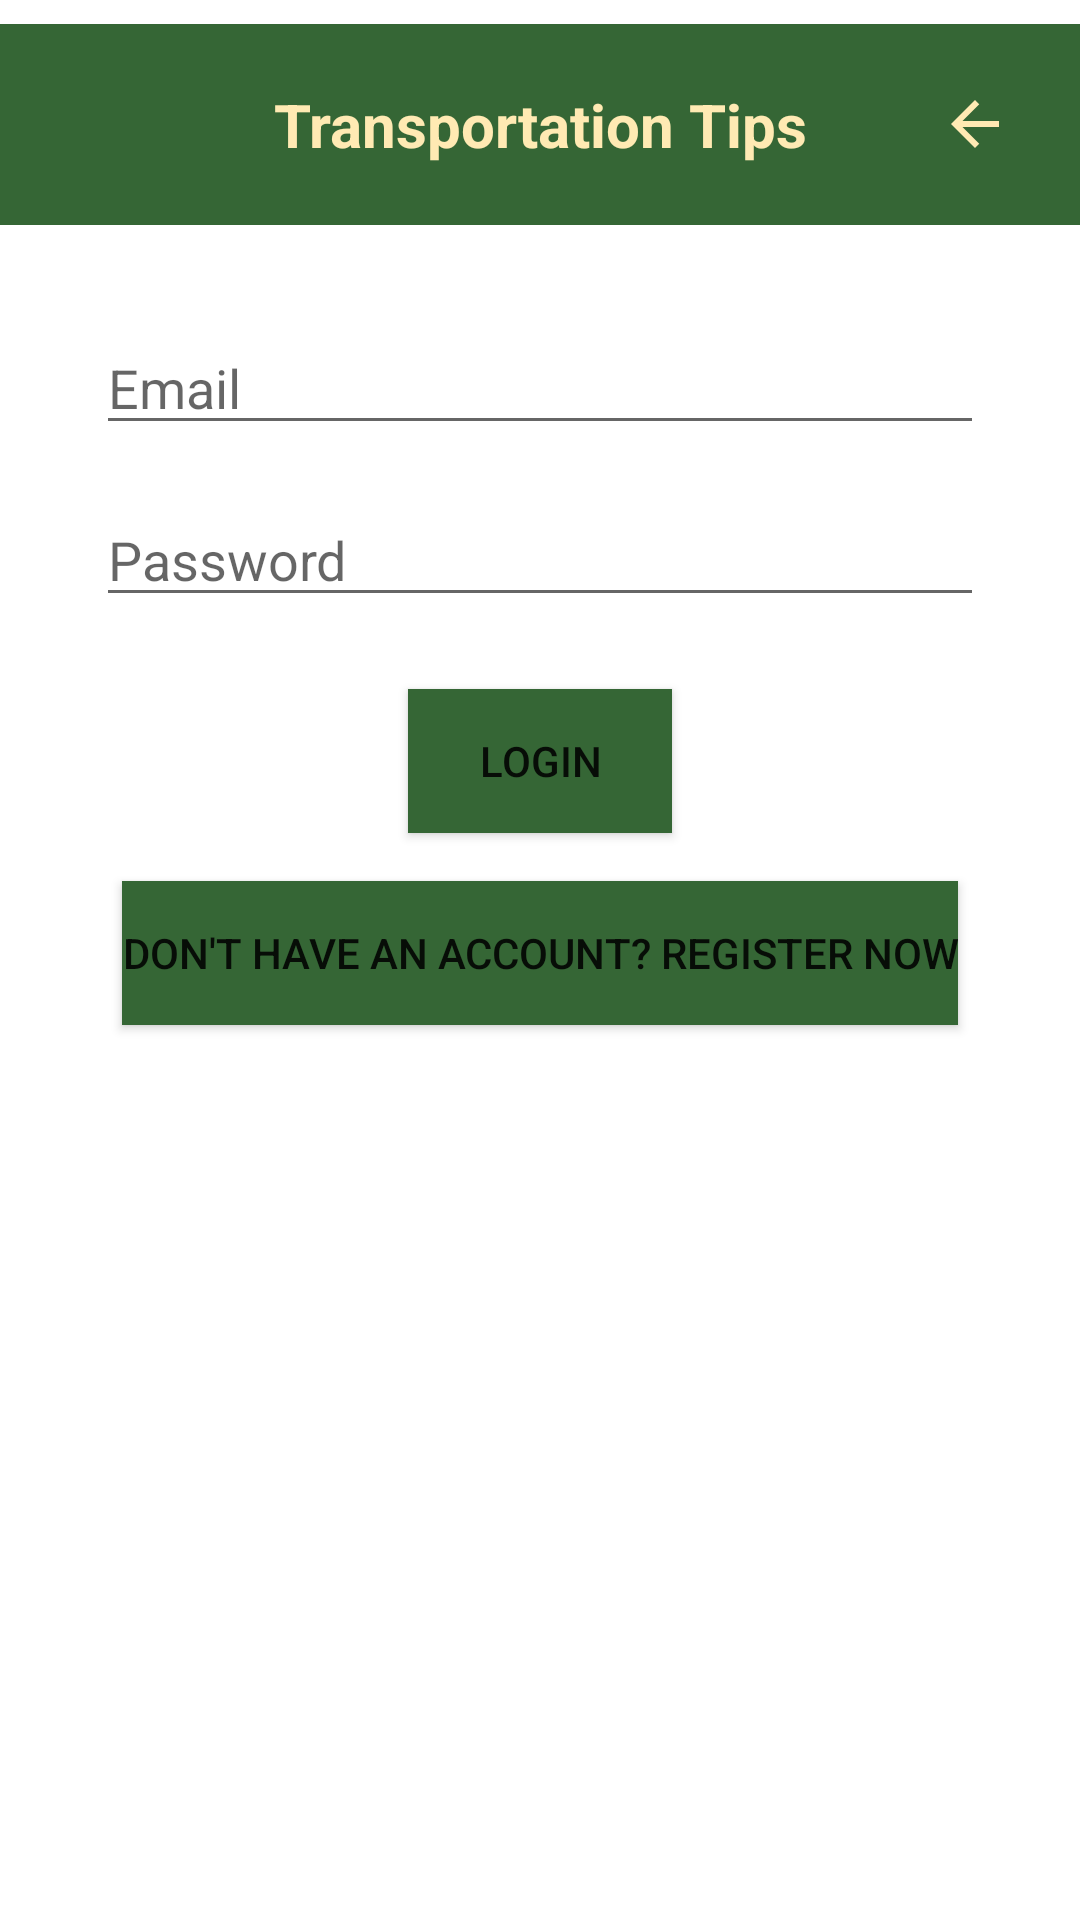

Icons on this 1080px×1920px Android screen, each with its box as bbox=(x1, y1, x2, y2):
back: bbox=(951, 100, 999, 148)
